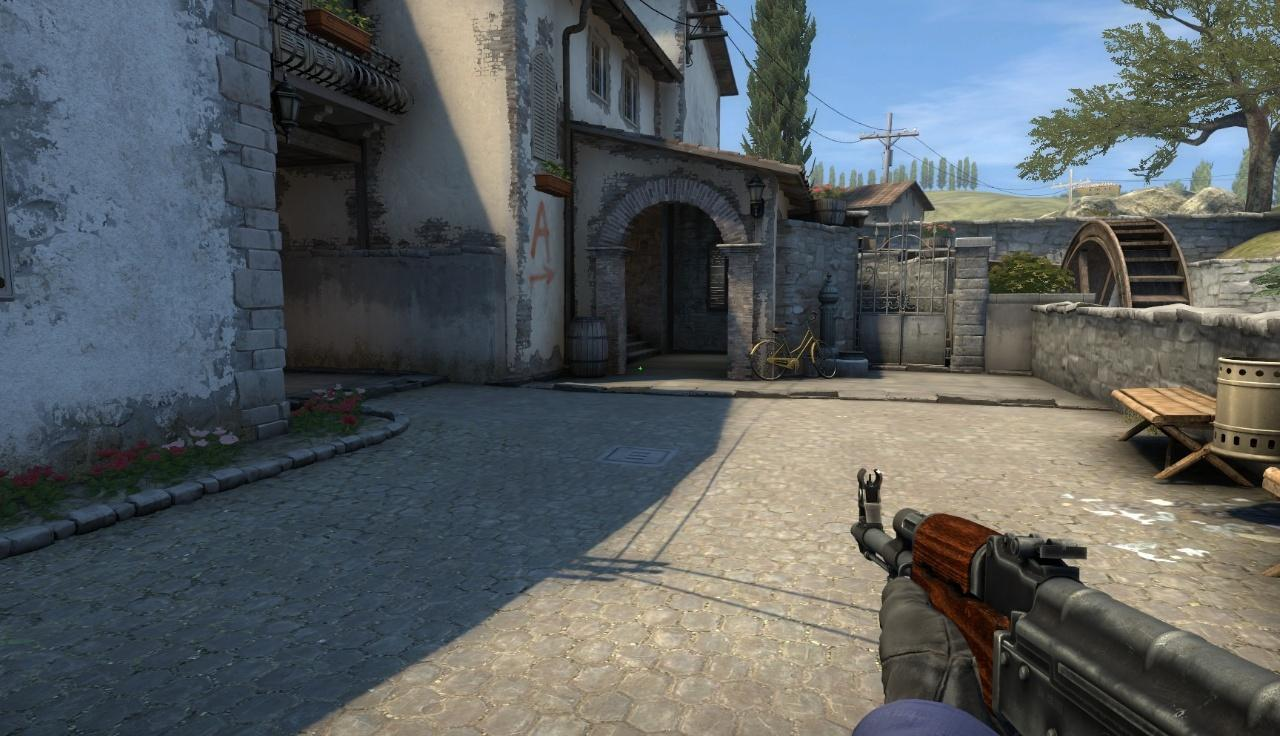rifle: (852, 464, 1280, 736)
